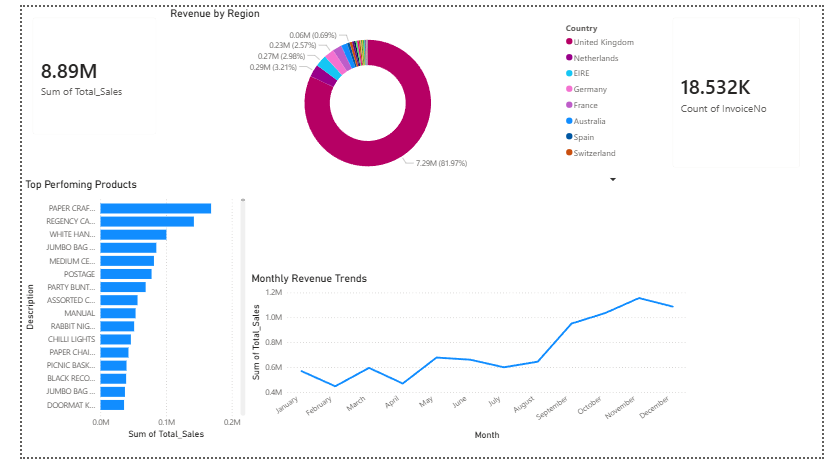

This screenshot's page, from the dashboard's own definition file:
{"tool":"powerbi","page":{"name":"Page 1","canvas":[1280,720],"ordinal":0},"visuals":[{"type":"cardVisual","fields":{"Data":["Sum(Cleaned_online_retail.Total_Sales)"]},"box":[0,0,232,221.6],"z":0},{"type":"barChart","fields":{"Category":["Cleaned_online_retail.Description"],"Y":["Sum(Cleaned_online_retail.Total_Sales)"]},"box":[0,250,363.3,446.7],"z":1000},{"type":"lineChart","fields":{"Category":["Cleaned_online_retail.InvoiceDate.Variation.Date Hierarchy.Month","Cleaned_online_retail.InvoiceDate.Variation.Date Hierarchy.Day"],"Y":["Sum(Cleaned_online_retail.Total_Sales)"]},"box":[362.2,286.6,901.3,410.7],"z":2000},{"type":"donutChart","title":"Revenue by Region","fields":{"Category":["Cleaned_online_retail.Country"],"Y":["Sum(Cleaned_online_retail.Total_Sales)"]},"box":[232.4,0,705.9,263.8],"z":2001},{"type":"cardVisual","fields":{"Data":["Count(Cleaned_online_retail.InvoiceNo)"]},"box":[948,0,332,264],"z":2002}]}

Visuals, with their boxes in screenshot pixels (x1, y1, x2, y2), scaled from the page's 1280x720 canvas onto the 837x471 screenshot:
cardVisual - Sum(Cleaned_online_retail.Total_Sales): box=[0, 0, 152, 145]
barChart - Cleaned_online_retail.Description x Sum(Cleaned_online_retail.Total_Sales): box=[0, 164, 238, 456]
lineChart - Cleaned_online_retail.InvoiceDate.Variation.Date Hierarchy.Month x Cleaned_online_retail.InvoiceDate.Variation.Date Hierarchy.Day: box=[237, 187, 826, 456]
"Revenue by Region" donutChart: box=[152, 0, 614, 173]
cardVisual - Count(Cleaned_online_retail.InvoiceNo): box=[620, 0, 836, 173]
